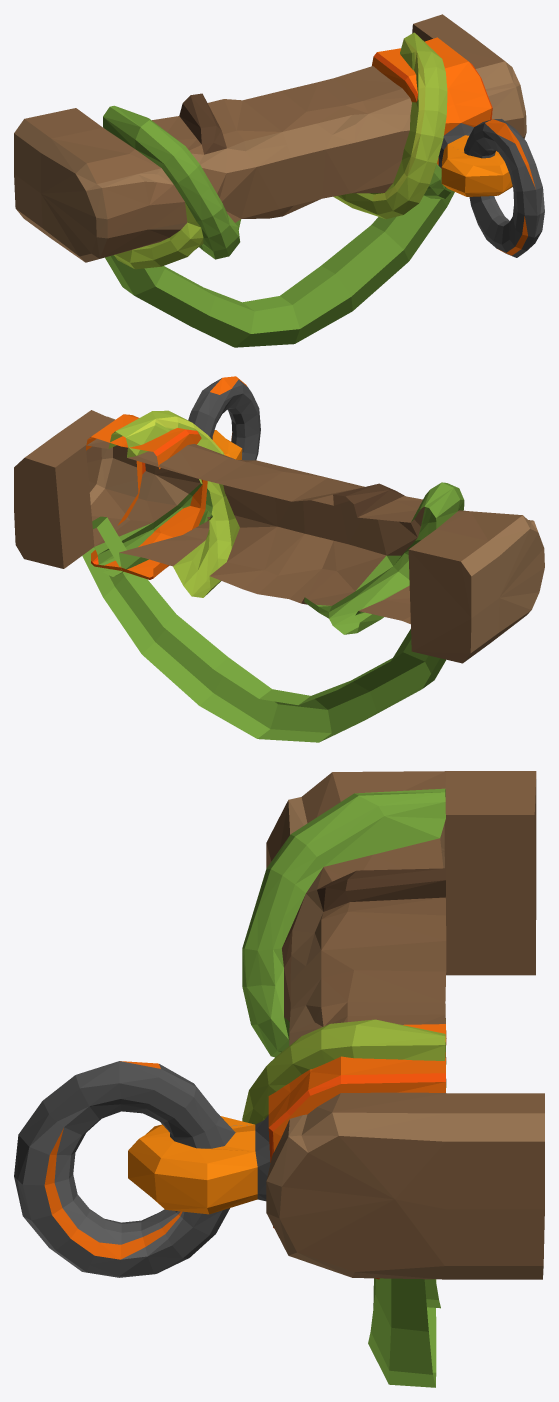
Rendered from VR_GrabHandle_01a.glb.
3 views of the same model, one above another, from view 1: azimuth 30°, elevation 25°; view 2: azimuth 150°, elevation 25°; view 3: azimuth 270°, elevation 25° (orthographic). The views are drawn at different scales.
Parts seen in each view (by area): view 1: VR_GrabHandle_01a; view 2: VR_GrabHandle_01a; view 3: VR_GrabHandle_01a.
Part boxes in pixels (x1,y1,x2,y2): VR_GrabHandle_01a: (14,14,544,347); VR_GrabHandle_01a: (14,376,544,742); VR_GrabHandle_01a: (14,771,544,1387).
Size of the model in its own units: 1.63 by 0.9545 by 1.02.
1 material, 1 textured.
